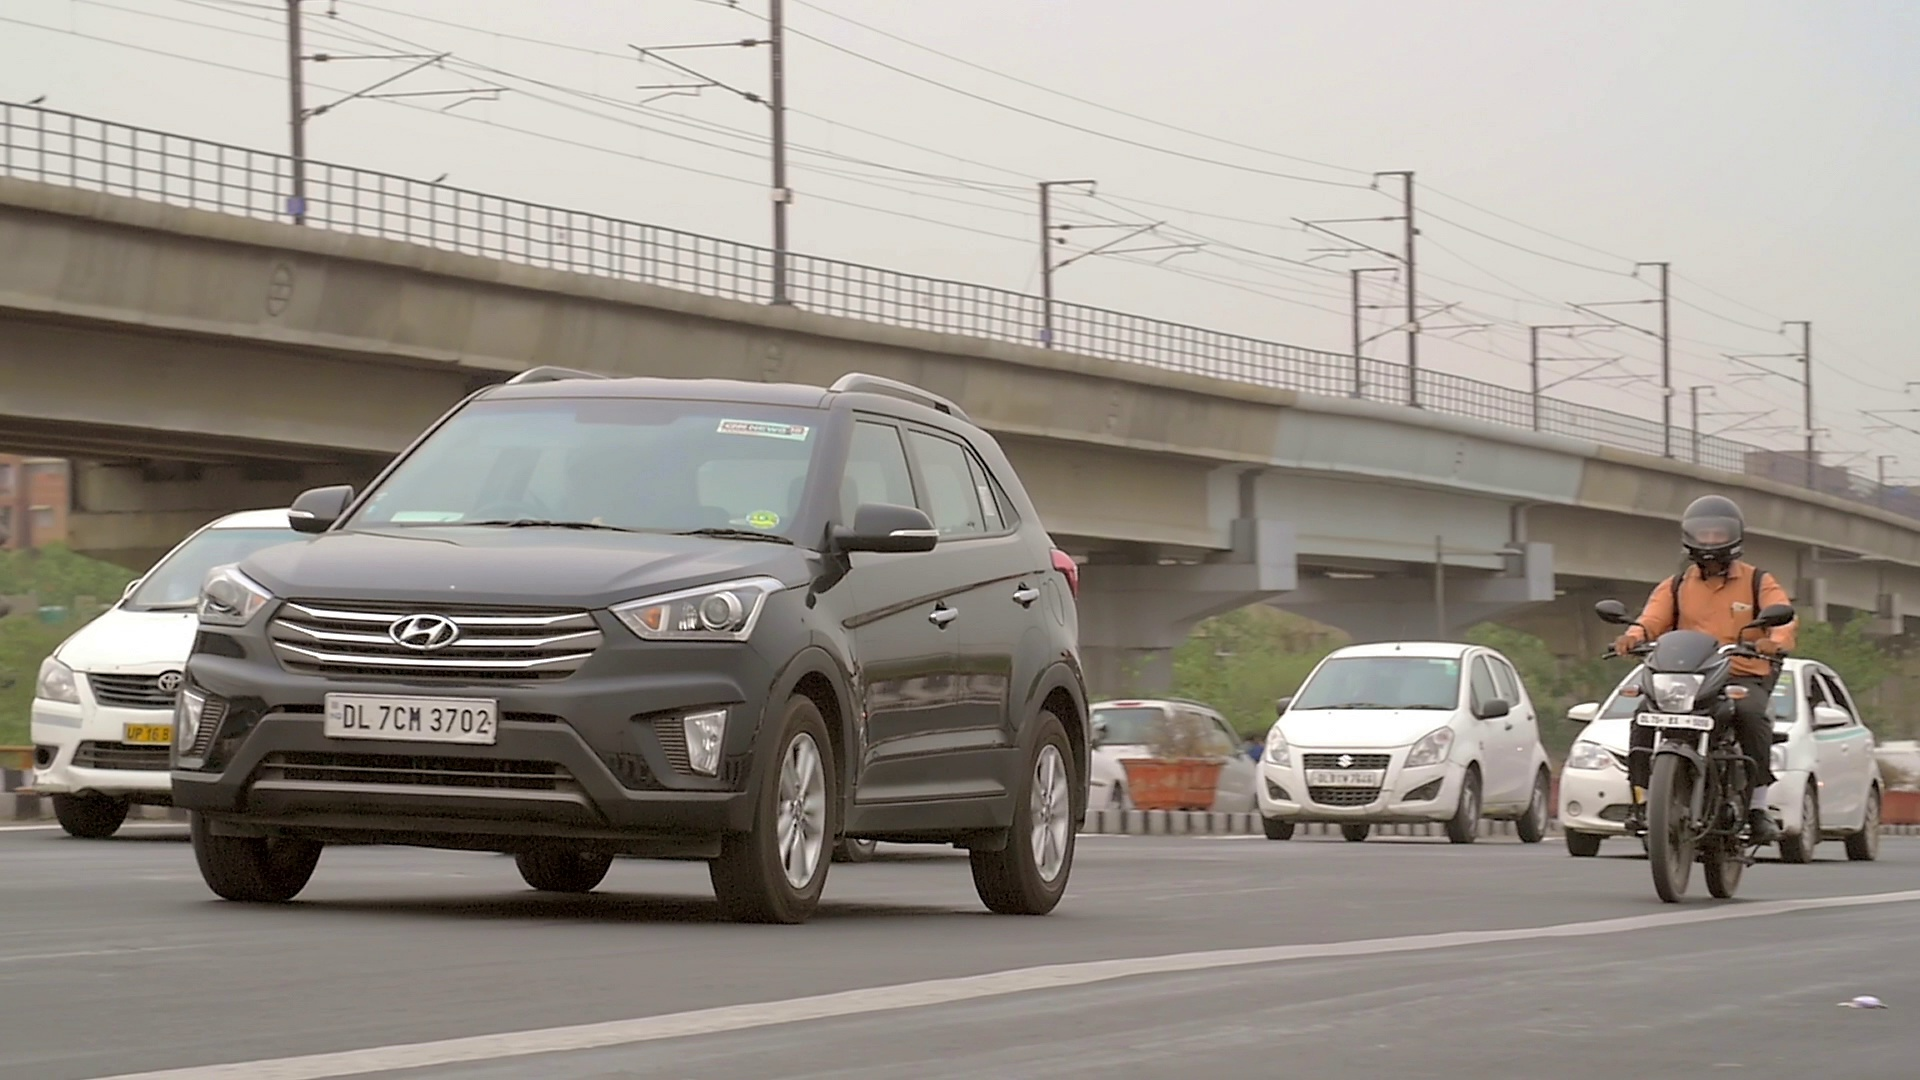bike: (1615, 495, 1776, 907)
car: (211, 363, 1088, 914), (1257, 637, 1553, 851)
